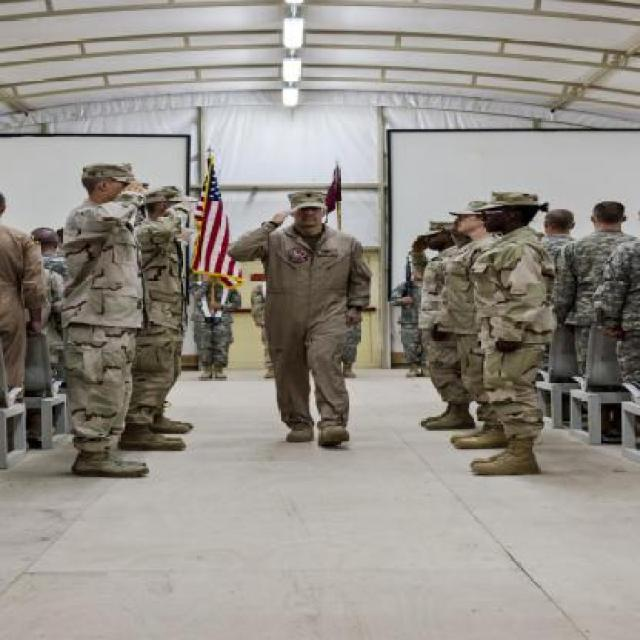Person: (388, 186, 640, 472), (0, 156, 198, 483), (222, 188, 369, 446)
